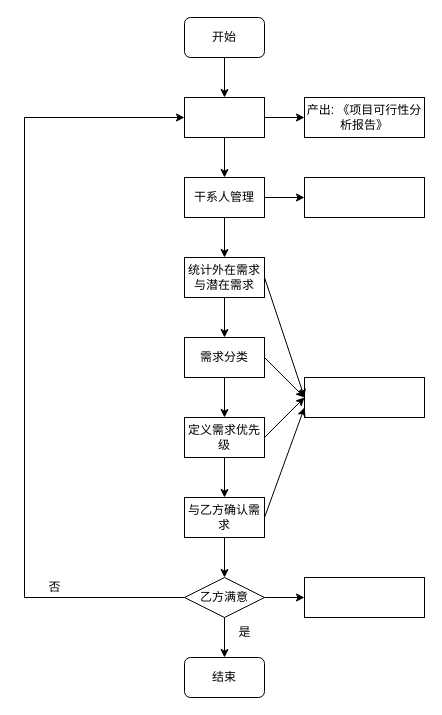
Image size: 442x715. Some labels were removed from this diagram. Here are the shapes that lost their labels. From the top down, the centre of each, then its label:
the point at 224,117: 明确乙方项目可行性
the point at 364,197: 产出: 《项目干系人分析报告》
the point at 364,397: 产出: 《项目需求分析报告》
the point at 364,597: 产出：《项目需求管理方案》
